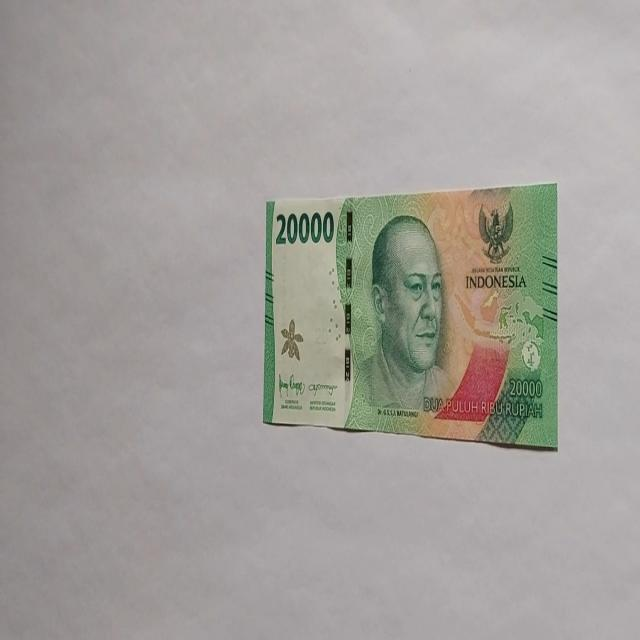dua puluh ribu rupiah: (262, 182, 558, 448)
